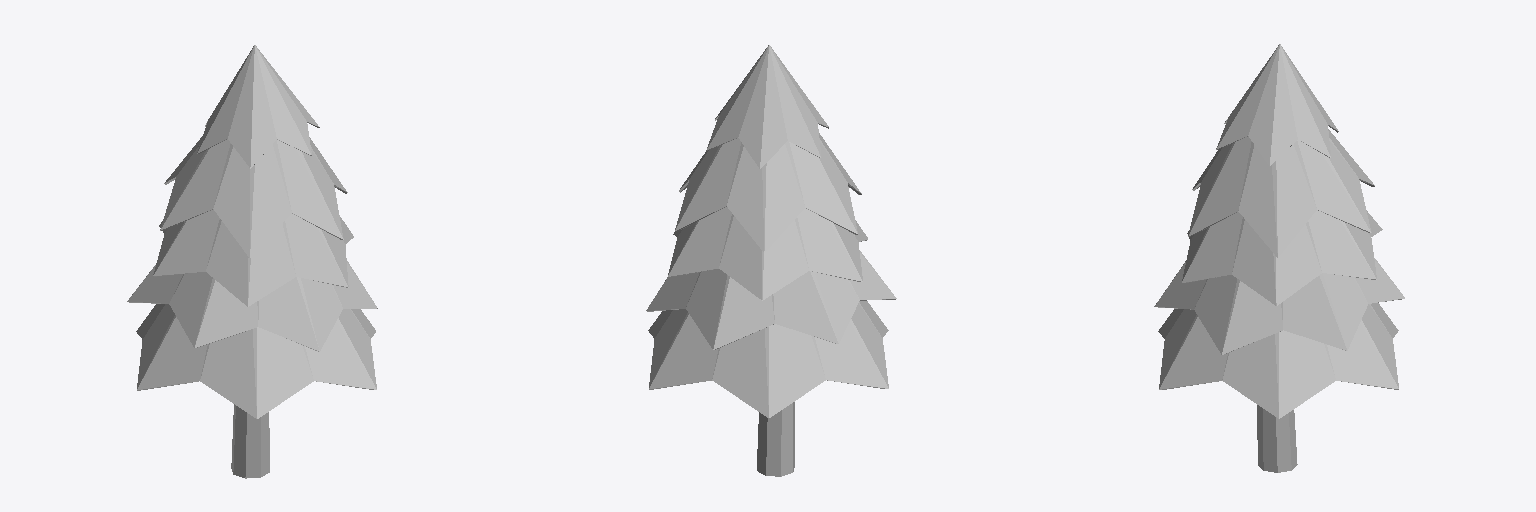
Rendered from dark_pine_tree2.obj.
3 views of the same model, side by side, from view 1: azimuth 30°, elevation 25°; view 2: azimuth 150°, elevation 25°; view 3: azimuth 270°, elevation 25° (orthographic).
Parts seen in each view (by area): view 1: Tree4_2.001_Cylinder.046; view 2: Tree4_2.001_Cylinder.046; view 3: Tree4_2.001_Cylinder.046.
Boxes of the visible parts, x1=… form: Tree4_2.001_Cylinder.046: x1=127, y1=45, x2=377, y2=478; Tree4_2.001_Cylinder.046: x1=646, y1=45, x2=896, y2=476; Tree4_2.001_Cylinder.046: x1=1154, y1=44, x2=1404, y2=472.
Bounding box in the file's own units: 5.11 × 8.61 × 4.63.